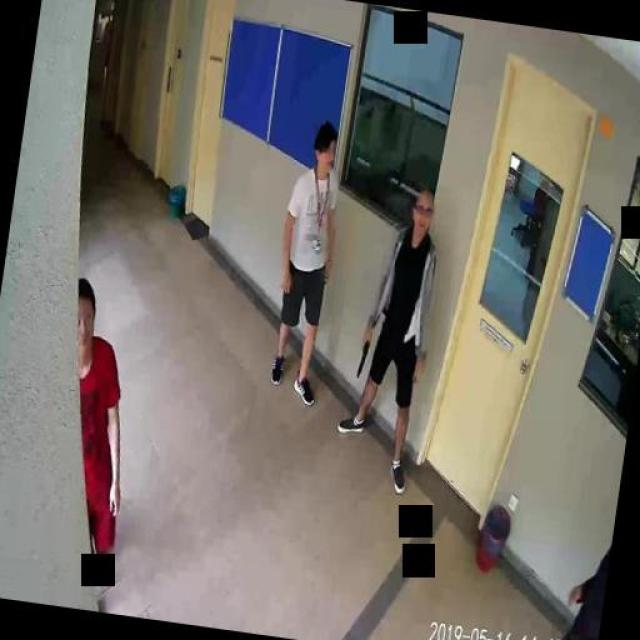gun: (355, 335, 370, 377)
